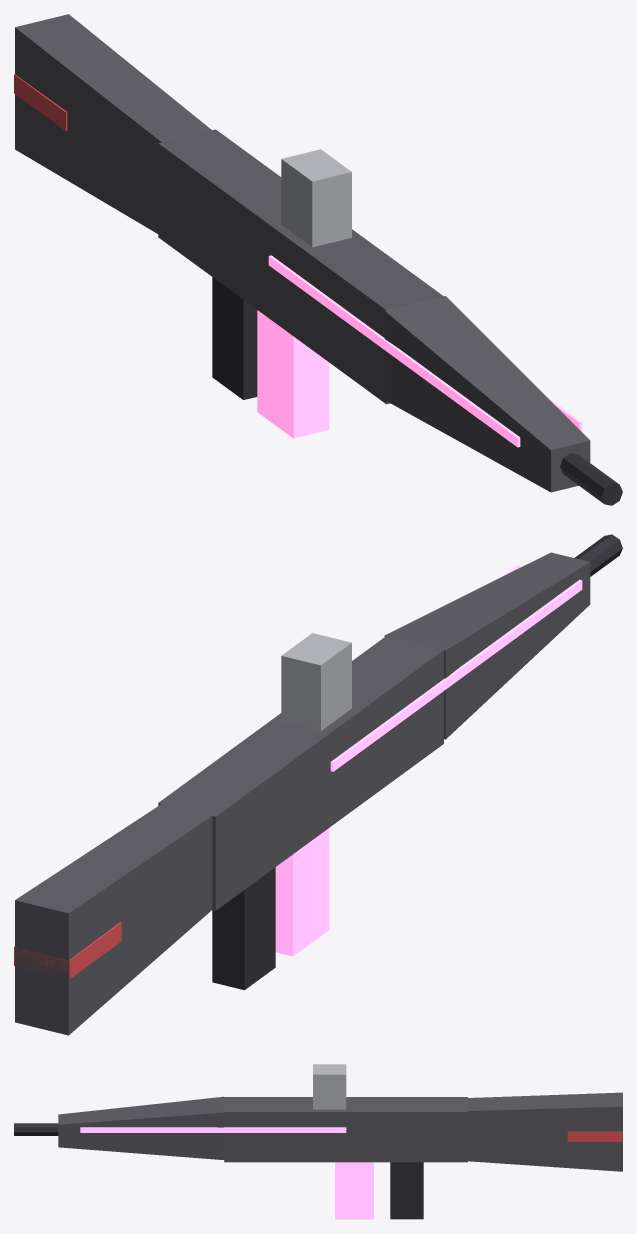
Rendered from weapon_F2_PulseCarbine.glb.
The picture shows the model from 3 angles, top to bottom: view 1: azimuth 30°, elevation 25°; view 2: azimuth 150°, elevation 25°; view 3: azimuth 270°, elevation 25°; orthographic projection. The views are drawn at different scales.
Parts seen in each view (by area): view 1: Body, Mag; view 2: Body, Mag; view 3: Body, Mag.
Boxes of the visible parts, box(x1,y1,x2,y2) form: Body: box(14, 14, 622, 505); Mag: box(257, 310, 329, 438); Body: box(14, 534, 622, 1035); Mag: box(275, 828, 329, 956); Body: box(14, 1064, 622, 1219); Mag: box(335, 1162, 373, 1219).
Bounding box in the file's own units: 0.072 × 0.29 × 1.1.
